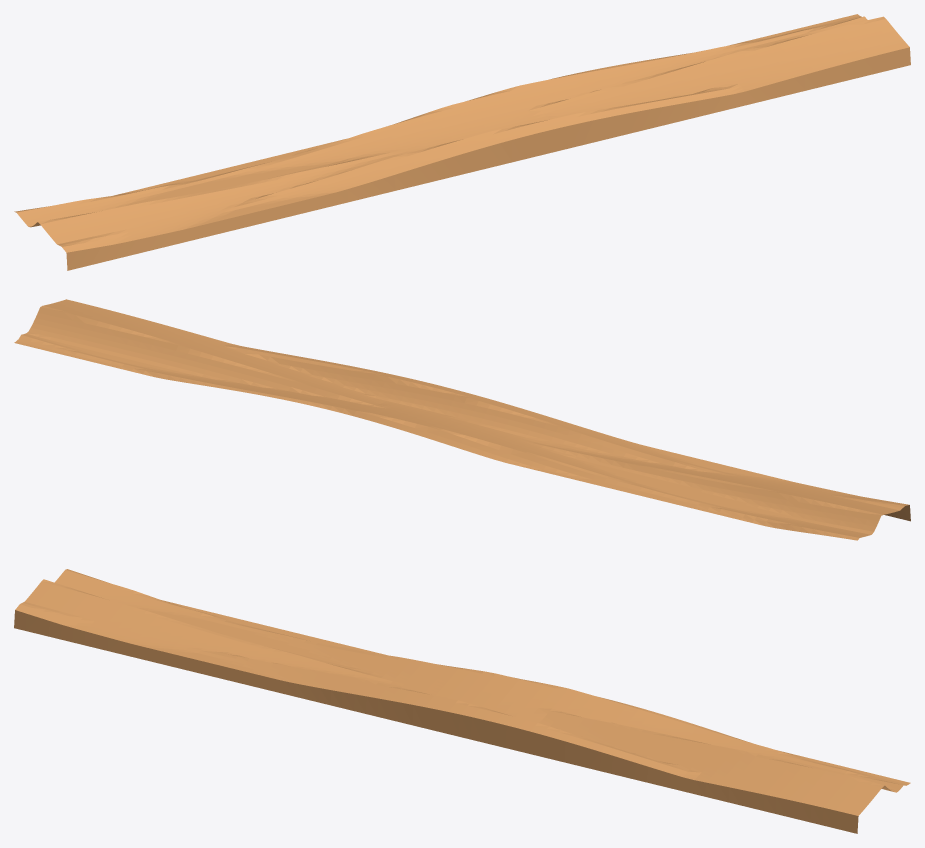
The model's file is dunes_canyon_near.glb.
3 views of the same model, one above another, from view 1: azimuth 30°, elevation 25°; view 2: azimuth 150°, elevation 25°; view 3: azimuth 330°, elevation 25° (orthographic).
Visible parts, largest first — view 1: land; view 2: land; view 3: land.
Boxes of the visible parts, x1,y1,x2,y2 form: land: [14, 14, 910, 270]; land: [14, 299, 910, 540]; land: [14, 569, 910, 833].
Bounding box in the file's own units: 520 × 17.15 × 57.12.
